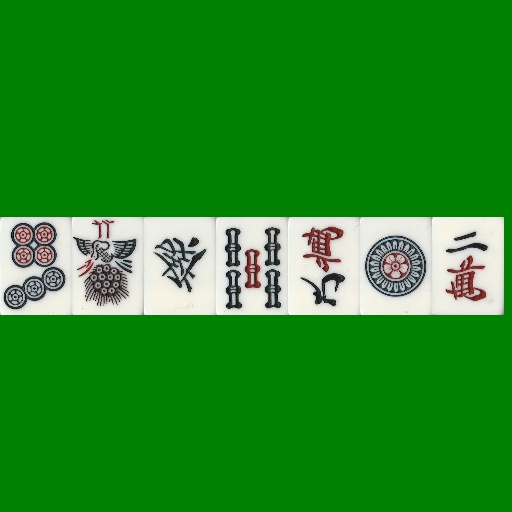1p: (360, 217, 432, 315)
1s: (72, 217, 144, 315)
2m: (432, 217, 504, 315)
5s: (216, 217, 288, 315)
7p: (0, 217, 72, 315)
9m: (288, 217, 360, 315)
hatsu: (144, 217, 216, 315)
